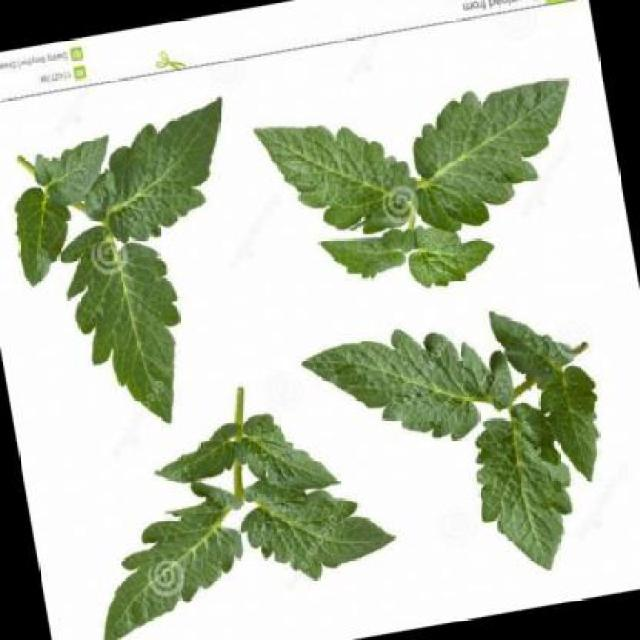Healthy Leaf: (392, 46, 598, 249), (280, 296, 514, 472), (42, 197, 203, 448), (52, 484, 261, 640), (234, 88, 418, 260), (449, 398, 600, 597), (234, 451, 418, 602)
